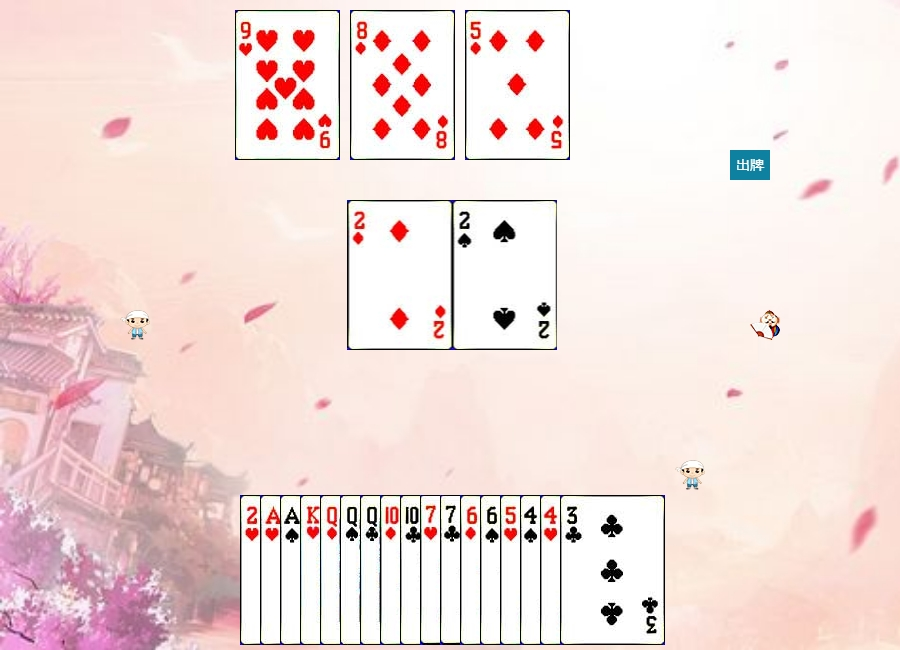10~1: (380, 495, 485, 645)
10~2: (400, 495, 505, 645)
12~1: (320, 495, 425, 645)
12~2: (360, 495, 465, 645)
12~4: (340, 495, 445, 645)
13~3: (300, 495, 405, 645)
14~3: (260, 495, 365, 645)
14~4: (280, 495, 385, 645)
15~1: (348, 200, 453, 350)
15~3: (240, 495, 345, 645)
15~4: (453, 200, 558, 350)
3~2: (560, 495, 665, 645)
4~3: (540, 495, 645, 645)
4~4: (520, 495, 625, 645)
5~1: (465, 10, 570, 160)
5~3: (500, 495, 605, 645)
6~1: (460, 495, 565, 645)
6~4: (480, 495, 585, 645)
7~2: (440, 495, 545, 645)
7~3: (420, 495, 525, 645)
8~1: (350, 10, 455, 160)
9~3: (235, 10, 340, 160)
